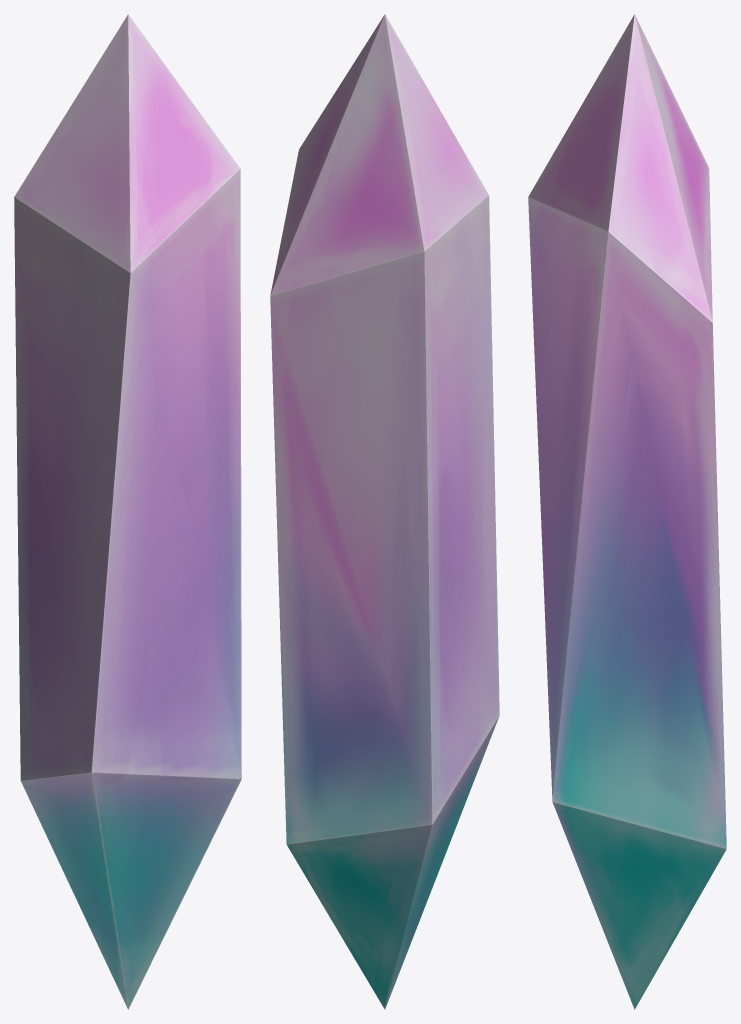
Rendered from coin crystal.fbx.
The picture shows the model from 3 angles, left to right: view 1: azimuth 30°, elevation 25°; view 2: azimuth 150°, elevation 25°; view 3: azimuth 270°, elevation 25°; orthographic projection.
Visible parts, largest first — view 1: Cube; view 2: Cube; view 3: Cube.
Part boxes in pixels (bbox=[...]): Cube: bbox=[14, 14, 241, 1009]; Cube: bbox=[270, 14, 499, 1009]; Cube: bbox=[528, 14, 726, 1009].
Bounding box in the file's own units: 34.46 × 186 × 33.56.
Materials: 1 (1 with a texture image).
